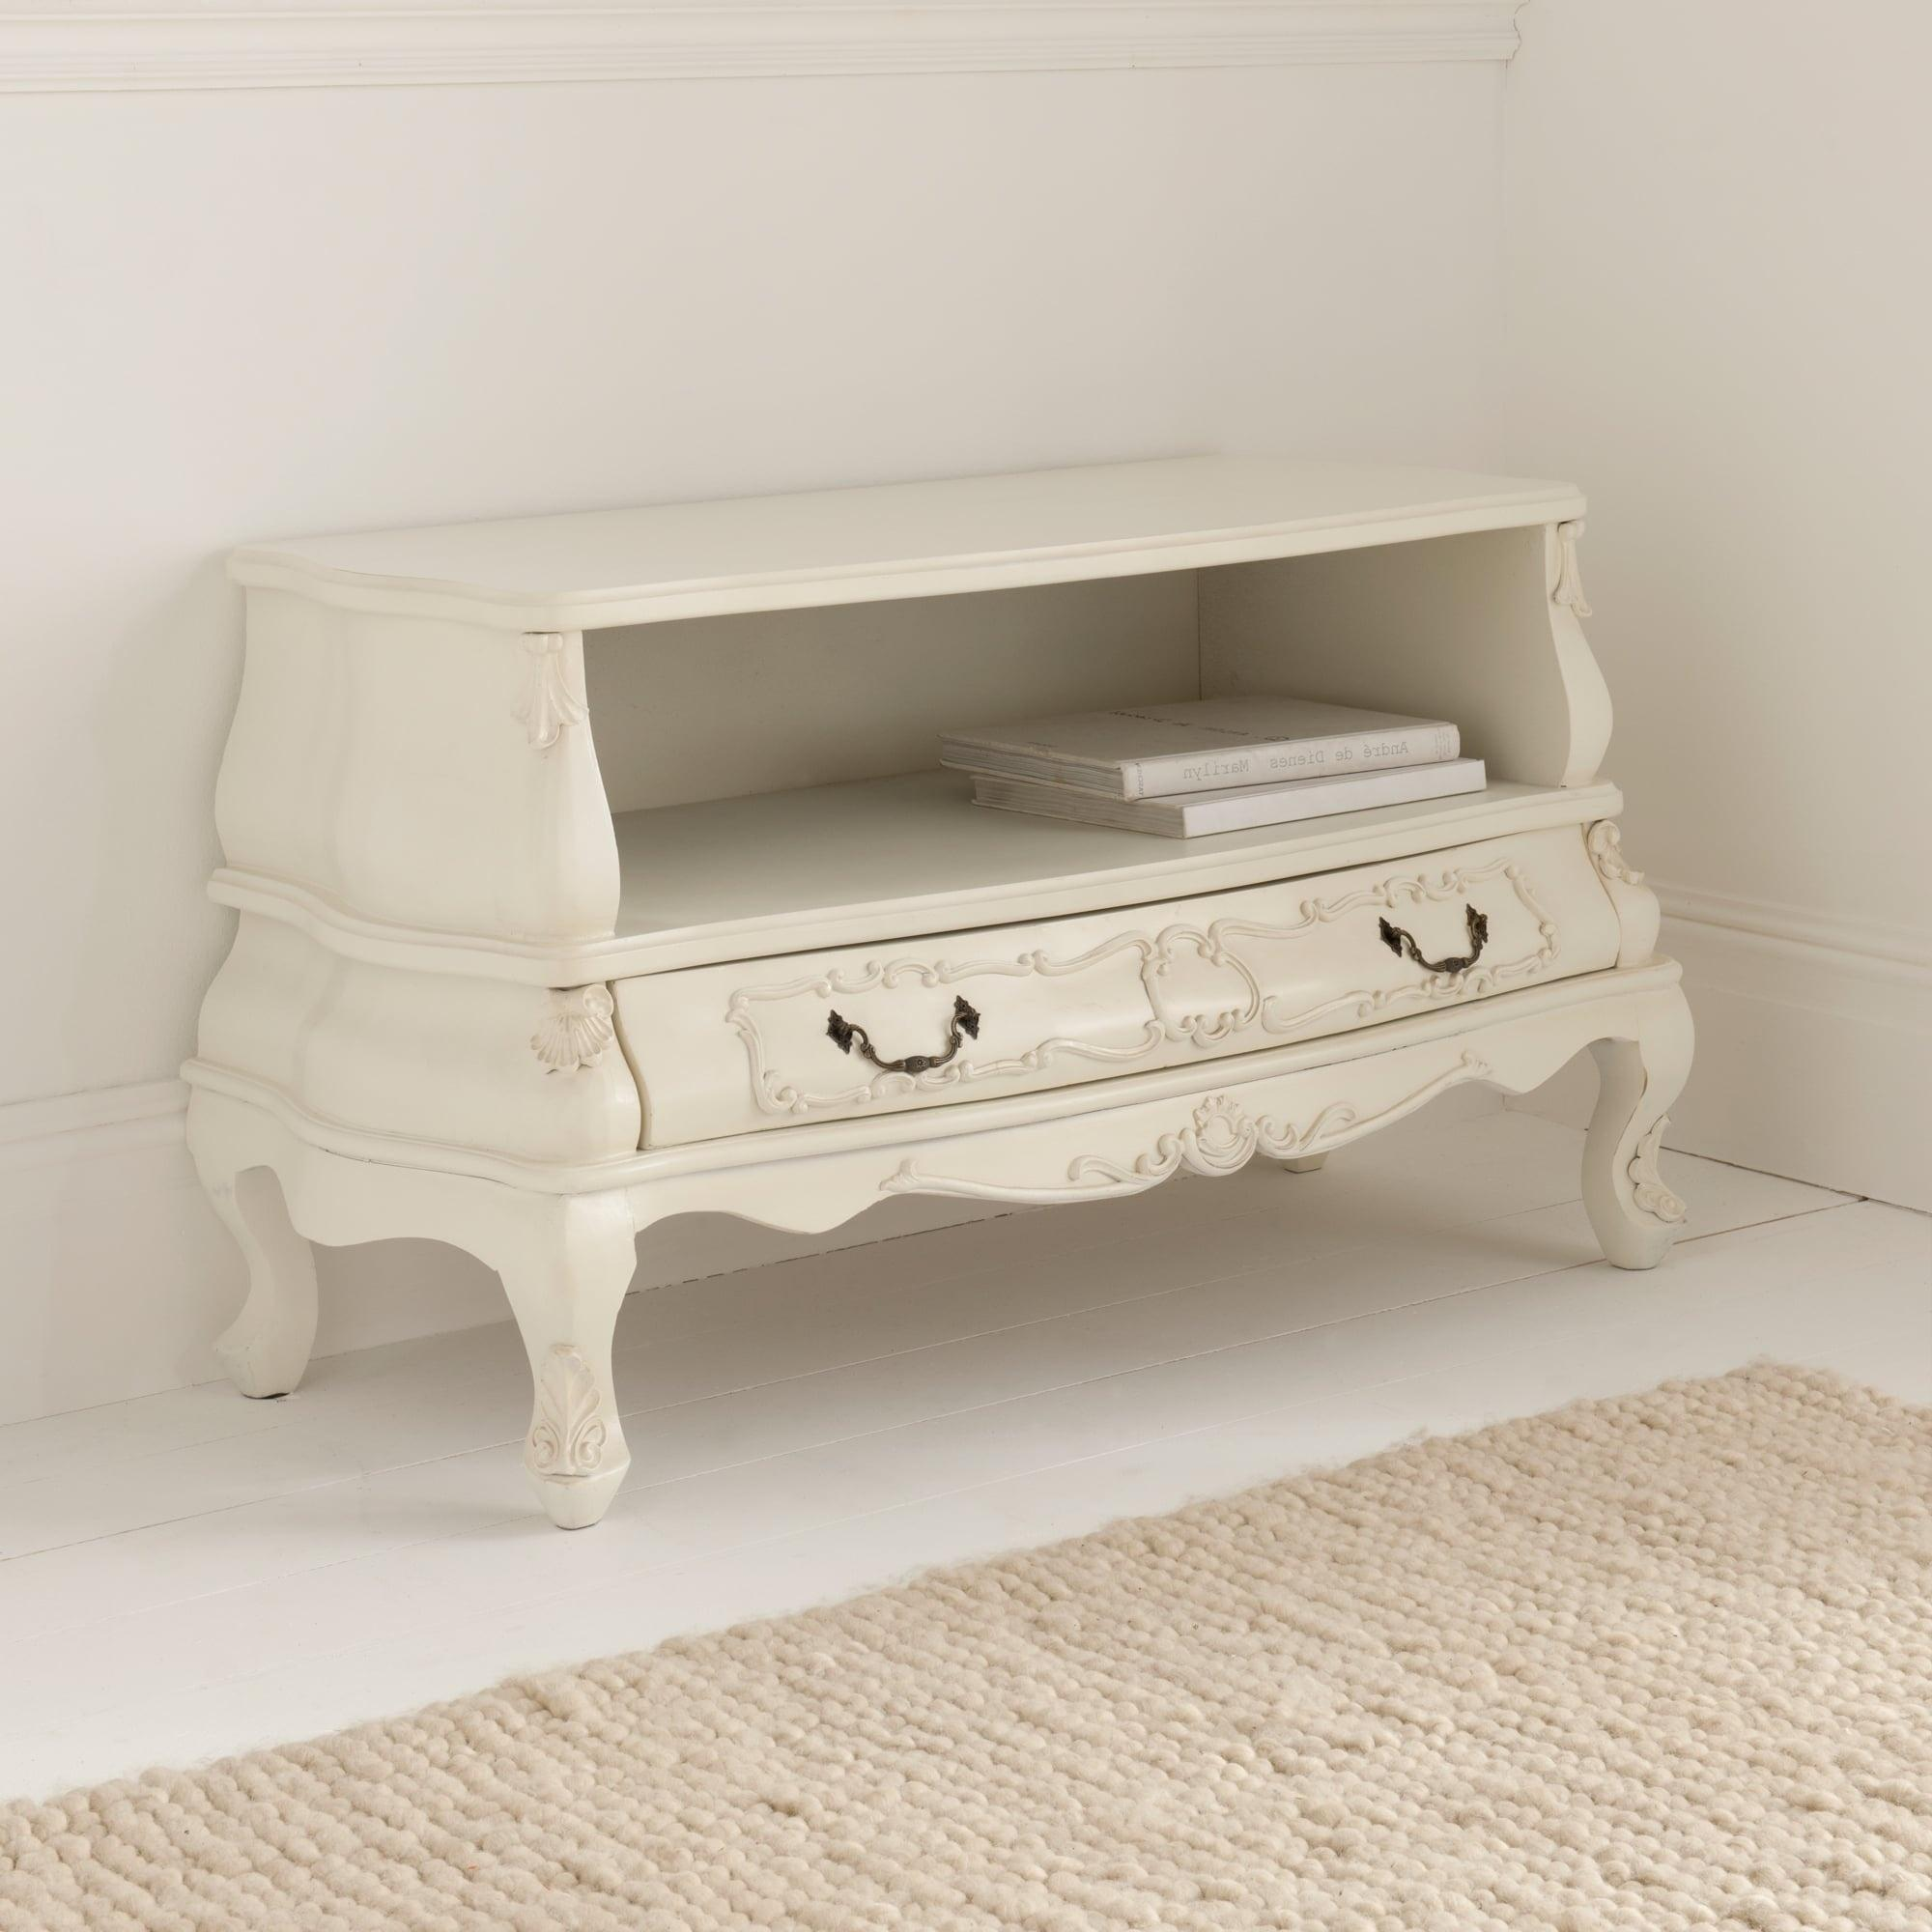cabinet_door: (625, 947, 1159, 1118), (1154, 856, 1617, 1010)
handle: (816, 998, 987, 1088), (1375, 911, 1495, 987)
